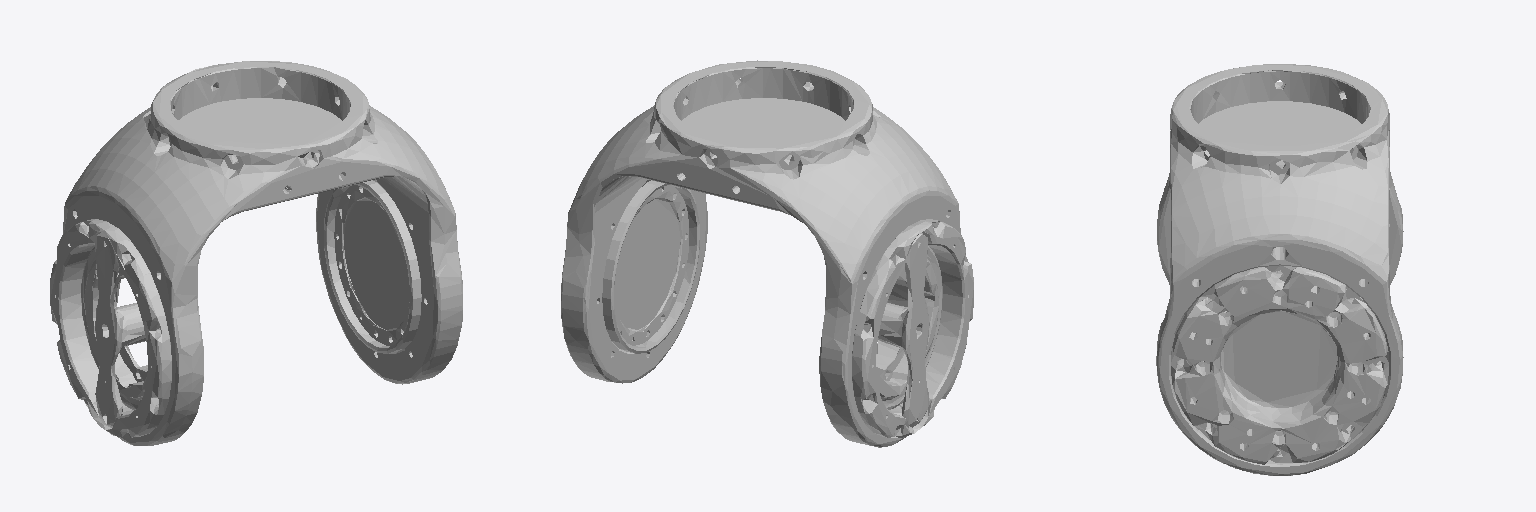
Rendered from shoulderPitchRight.obj.
3 views of the same model, side by side, from view 1: azimuth 30°, elevation 25°; view 2: azimuth 150°, elevation 25°; view 3: azimuth 270°, elevation 25° (orthographic).
Parts seen in each view (by area): view 1: shoulderPitchRight; view 2: shoulderPitchRight; view 3: shoulderPitchRight.
Part boxes in pixels (x1,y1,x2,y2): shoulderPitchRight: (50, 61, 462, 445); shoulderPitchRight: (561, 60, 973, 447); shoulderPitchRight: (1156, 64, 1403, 475).
Bounding box in the file's own units: 0.0885 × 0.083 × 0.062.